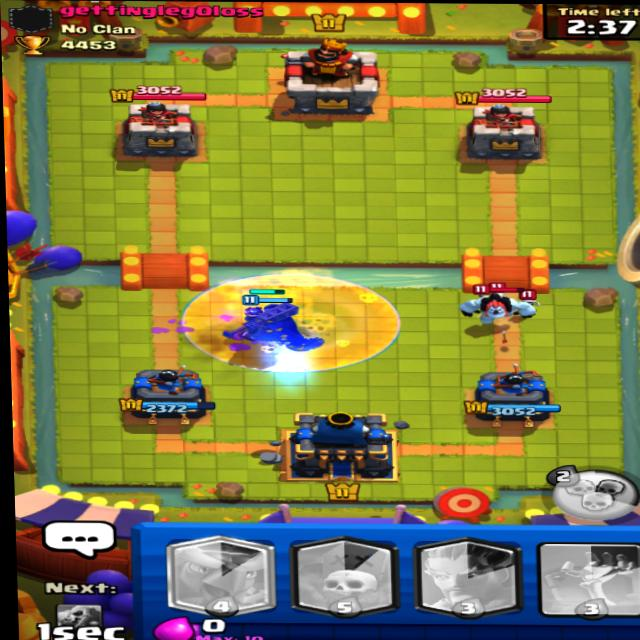ice-golem: (466, 291, 539, 329)
skeleton: (464, 283, 501, 302), (512, 284, 537, 305)
